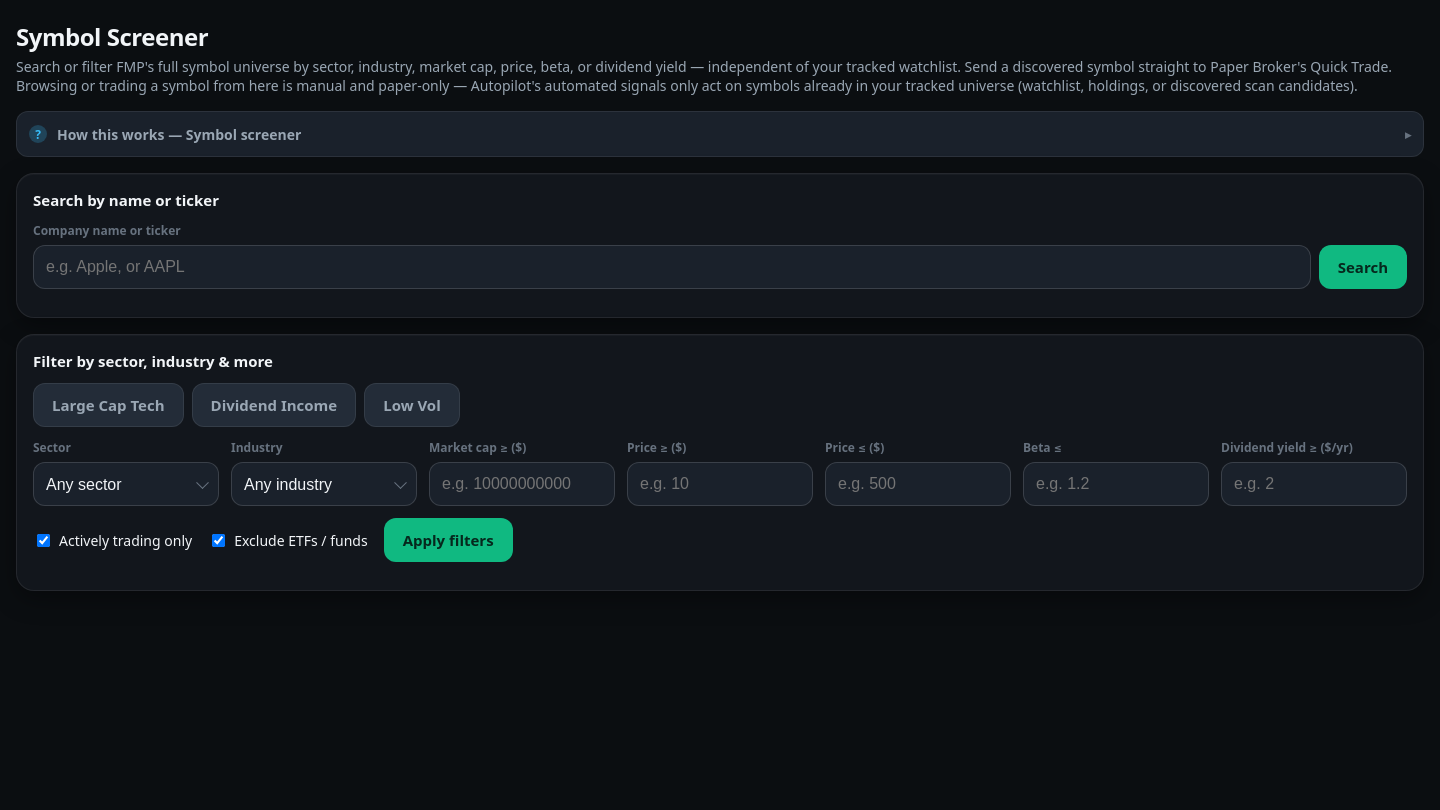
Scenario: SymbolScreener screen (real mock API) › search: finds a matching symbol by company name
Type "Apple" into the field labelled "Company name or ticker" at [672, 267], box [33,245,1311,289]
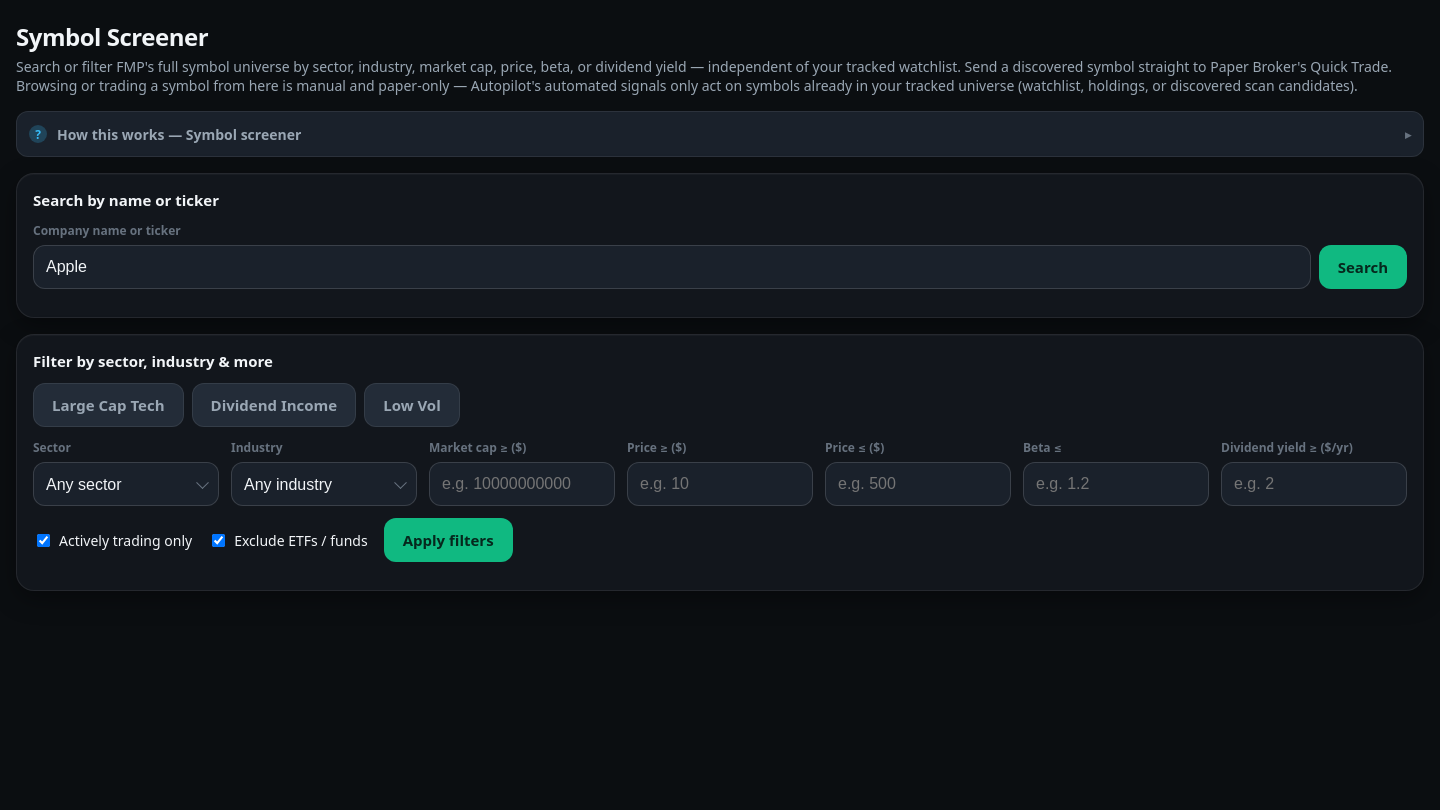
Click the button "Search" at [1363, 267], box [1319,245,1407,289]
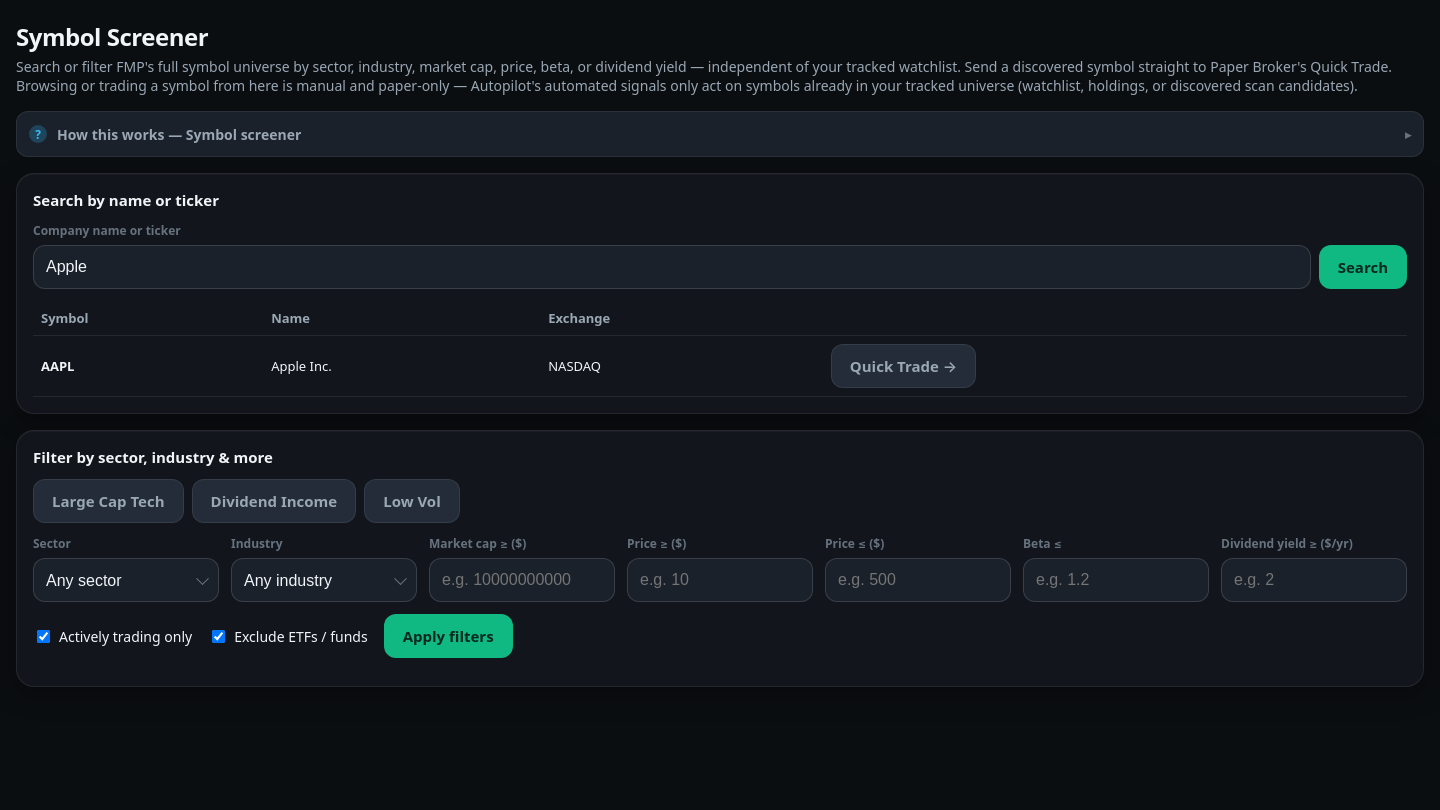
expect the text "AAPL" is shown: met, box [33,336,263,396]
expect the text "Apple Inc." is shown: met, box [263,336,540,396]
